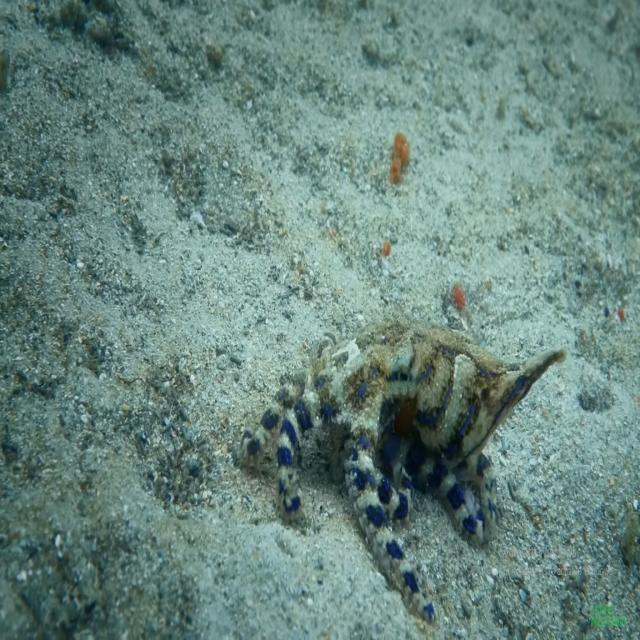blue_ringed_octopus: (239, 316, 568, 626)
